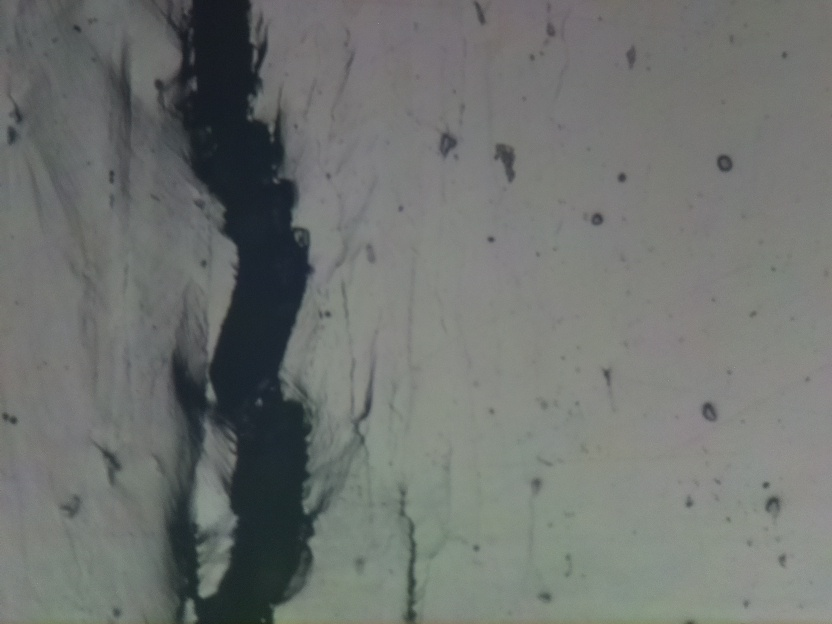crack: (174, 2, 315, 624), (392, 494, 435, 624)
